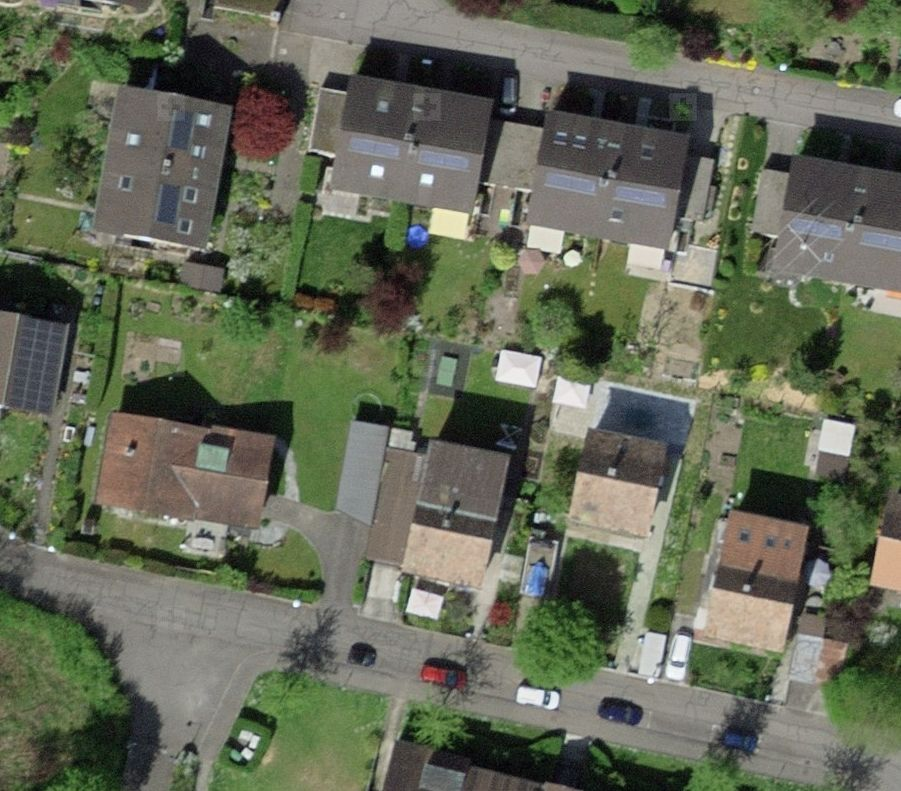solar: (5, 315, 67, 417), (783, 205, 848, 249), (405, 141, 473, 179), (536, 163, 605, 200), (605, 177, 674, 214), (337, 128, 405, 164), (148, 171, 184, 231), (161, 100, 197, 157), (854, 223, 901, 257)
